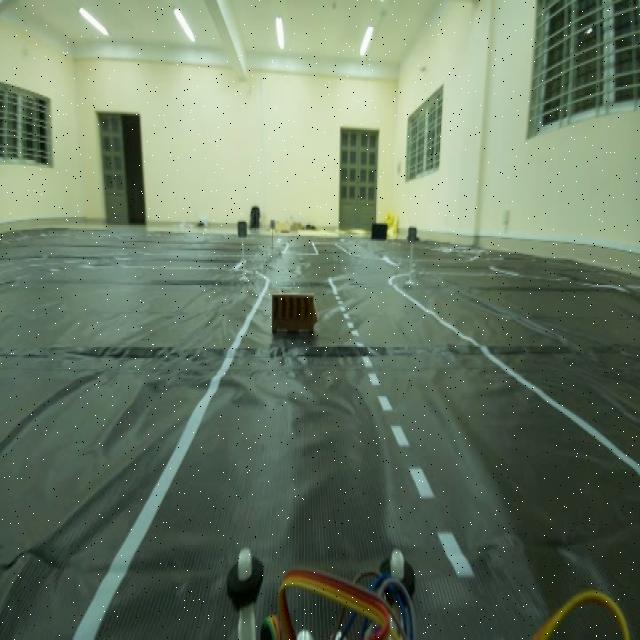roadblock: (270, 287, 318, 347)
